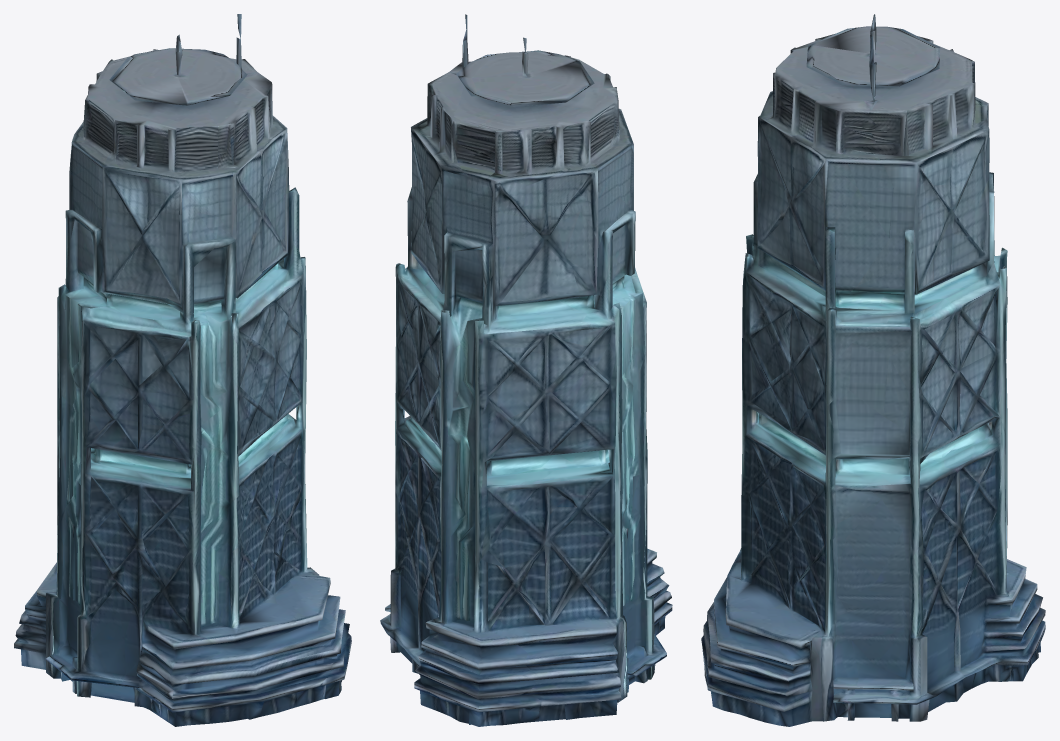
The model's file is au_sky_shibuya_glass.glb.
3 renders of one model, left to right at view 1: azimuth 30°, elevation 25°; view 2: azimuth 150°, elevation 25°; view 3: azimuth 270°, elevation 25°, orthographic. The views are drawn at different scales.
Visible parts, largest first — view 1: tripo_node_055c42bc-eee6-429e-a405-c9bc2da0f107; view 2: tripo_node_055c42bc-eee6-429e-a405-c9bc2da0f107; view 3: tripo_node_055c42bc-eee6-429e-a405-c9bc2da0f107.
Boxes of the visible parts, bbox=[...] form: tripo_node_055c42bc-eee6-429e-a405-c9bc2da0f107: bbox=[14, 14, 351, 726]; tripo_node_055c42bc-eee6-429e-a405-c9bc2da0f107: bbox=[380, 14, 672, 726]; tripo_node_055c42bc-eee6-429e-a405-c9bc2da0f107: bbox=[701, 14, 1045, 726].
Bounding box in the file's own units: 0.4214 × 0.9766 × 0.4632.
Materials: 1 (1 with a texture image).
